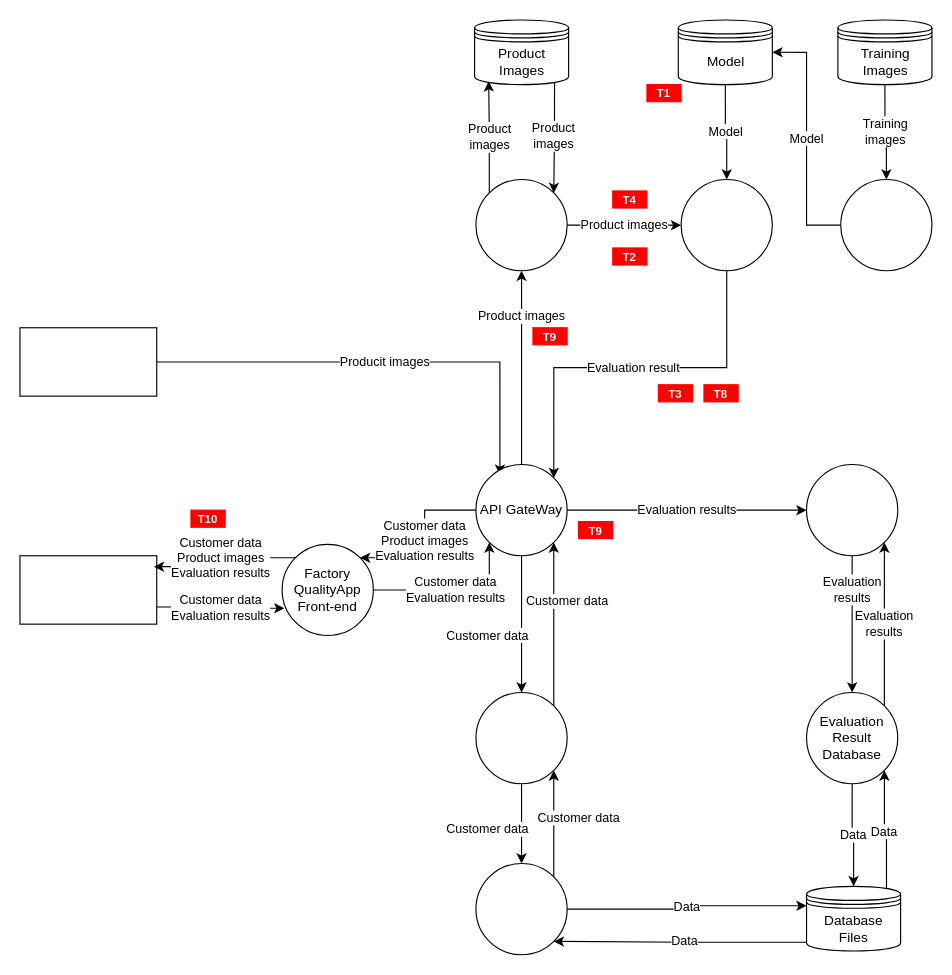
The diagram is 952 pixels wide and 975 high, and some of its shapes have lost their labels. Each missing label, with the centre of its shape:
Customer: [88,589]
Customer Database: [521,908]
Customer Management (Include Auth): [521,737]
Evaluate Product Image: [726,224]
Evaluation Result Management: [851,509]
Product Image I/O: [521,224]
Production line camera: [88,361]
Training: [886,224]
